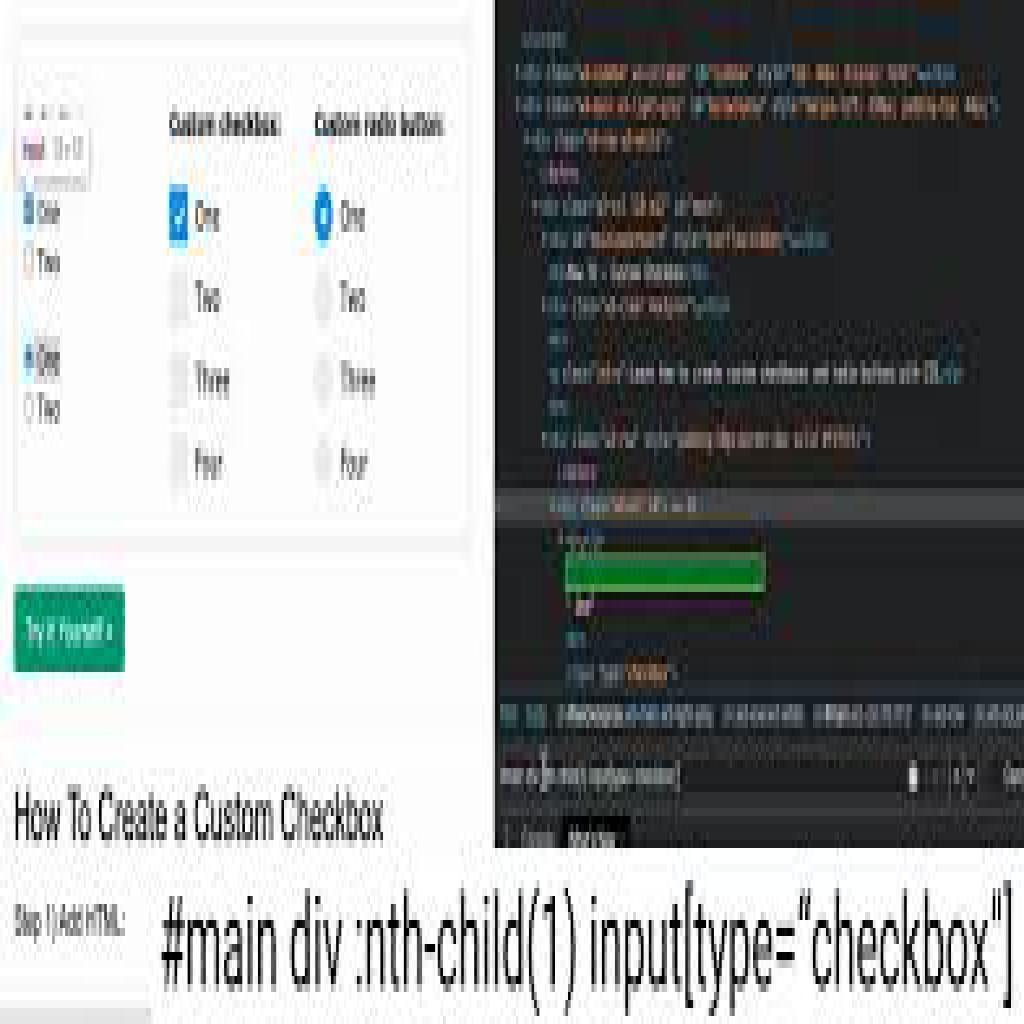button: (12, 583, 127, 672)
checkbox: (169, 263, 192, 330), (168, 432, 191, 497), (170, 187, 190, 249), (171, 352, 189, 415)
radio: (311, 273, 336, 332), (315, 184, 336, 251), (315, 351, 337, 410), (314, 437, 335, 488)
